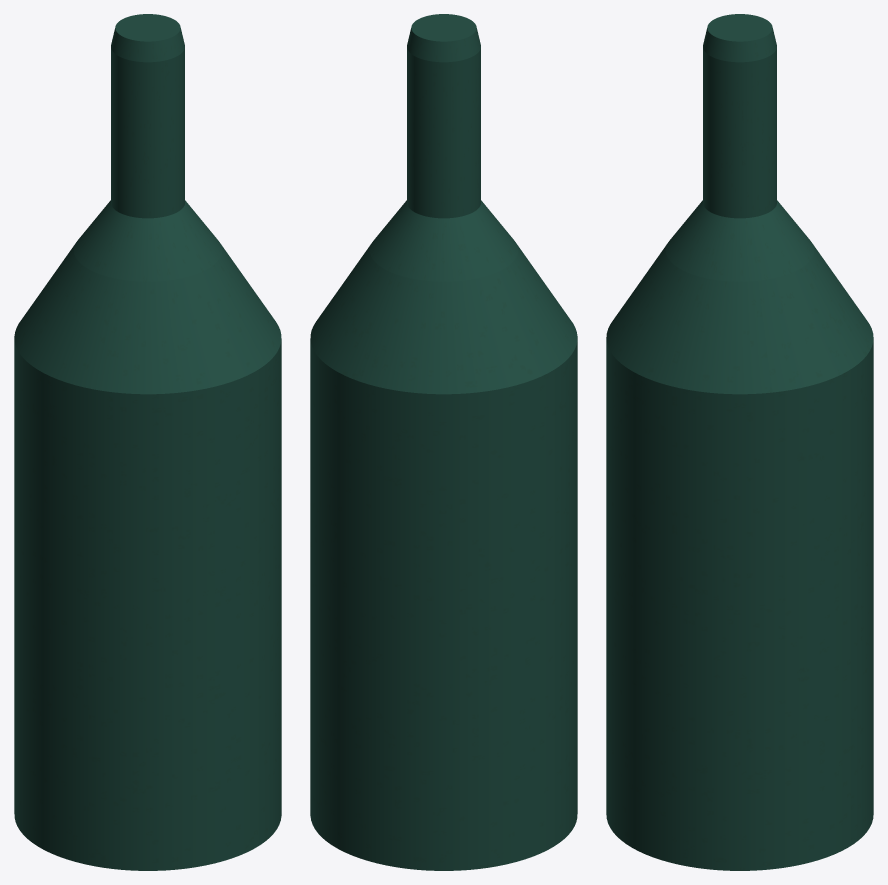
Rendered from misc_com_bottle_05.dae.
The picture shows the model from 3 angles, left to right: view 1: azimuth 30°, elevation 25°; view 2: azimuth 150°, elevation 25°; view 3: azimuth 270°, elevation 25°; orthographic projection.
Visible parts, largest first — view 1: jade; view 2: jade; view 3: jade.
Boxes of the visible parts, <box> form: jade: <box>14,14,281,870</box>; jade: <box>310,14,577,870</box>; jade: <box>606,14,873,870</box>.
Bounding box in the file's own units: 10.29 × 10.29 × 33.8.
